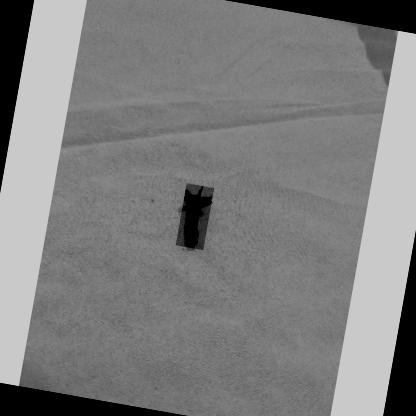buruk: (184, 187, 212, 248)
